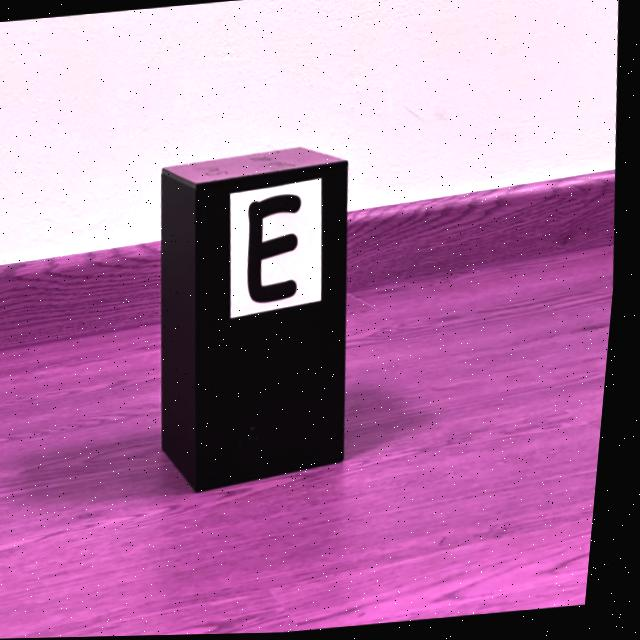E: (253, 195, 304, 304)
